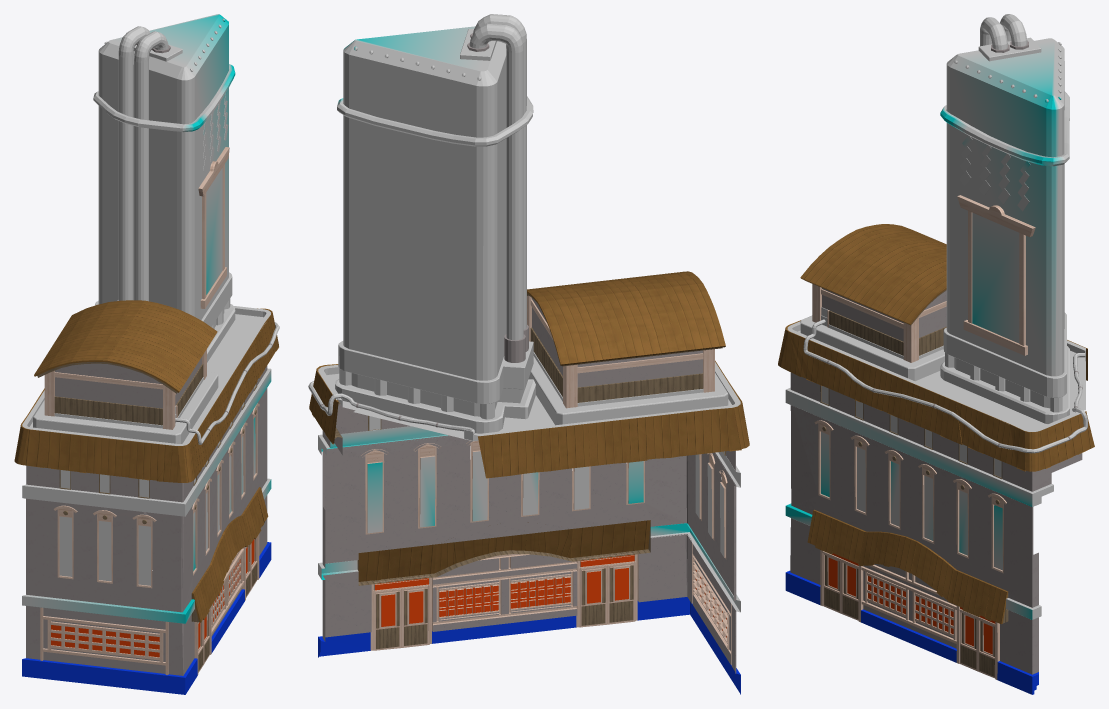
The model's file is SM_ENV_KNVLLG_AreaB_Building_A_Part_01.mo.fbx.
3 renders of one model, left to right at view 1: azimuth 30°, elevation 25°; view 2: azimuth 150°, elevation 25°; view 3: azimuth 270°, elevation 25°, orthographic. The views are drawn at different scales.
Visible parts, largest first — view 1: SM_ENV_KNVLLG_AreaB_Building_A_Part_01.mo; view 2: SM_ENV_KNVLLG_AreaB_Building_A_Part_01.mo; view 3: SM_ENV_KNVLLG_AreaB_Building_A_Part_01.mo.
Part boxes in pixels (left/top/right/bottom): SM_ENV_KNVLLG_AreaB_Building_A_Part_01.mo: left=14, top=14, right=279, bottom=694; SM_ENV_KNVLLG_AreaB_Building_A_Part_01.mo: left=308, top=14, right=749, bottom=694; SM_ENV_KNVLLG_AreaB_Building_A_Part_01.mo: left=778, top=14, right=1094, bottom=694.
Size of the model in its own units: 28.87 by 49.48 by 23.56.
